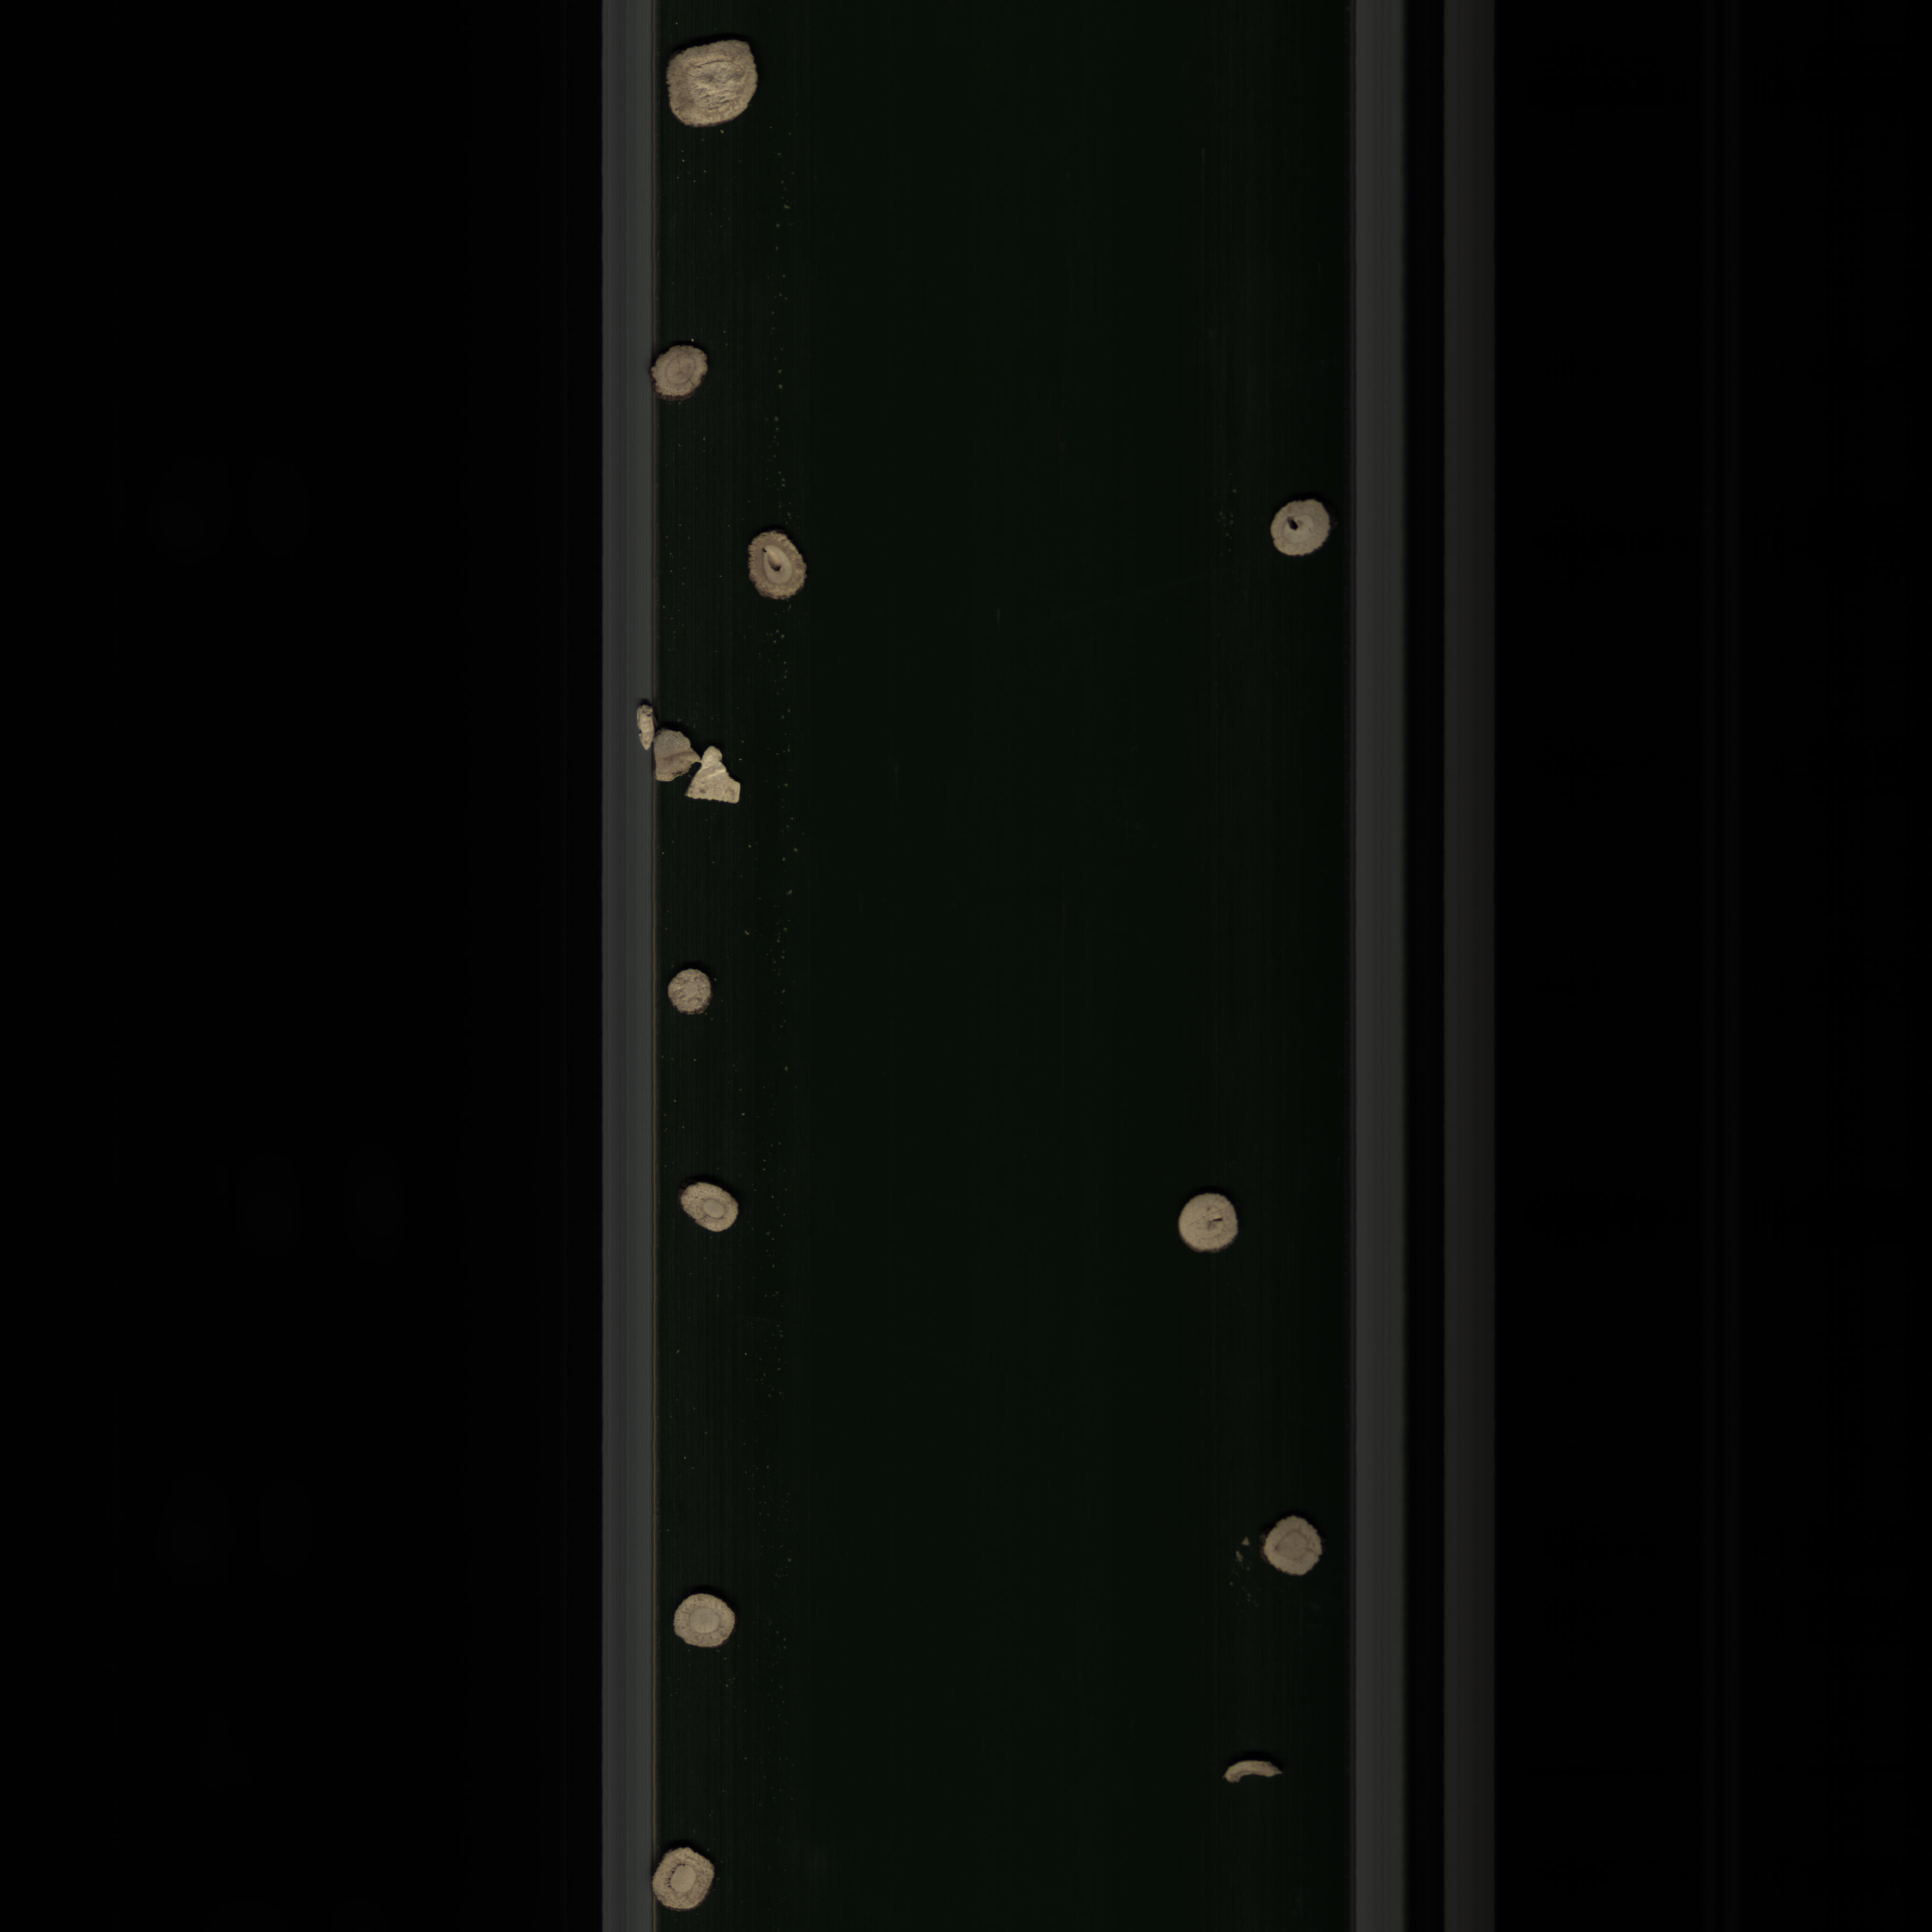bark: (1205, 1757, 1290, 1785)
debris: (685, 748, 752, 807), (651, 727, 699, 786)
hole: (1162, 1180, 1242, 1263), (745, 517, 807, 610), (1265, 494, 1332, 564)
